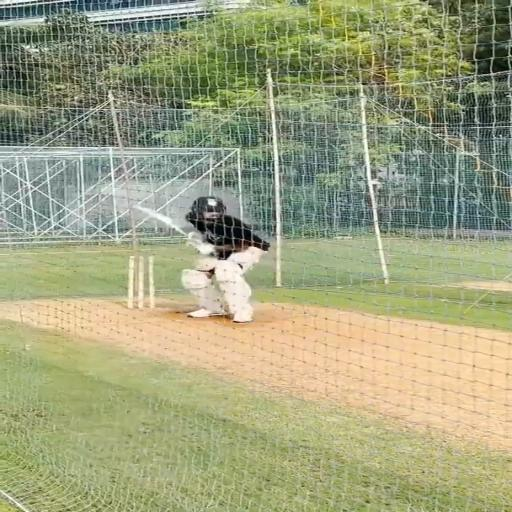Cricket bat: (135, 206, 187, 236)
